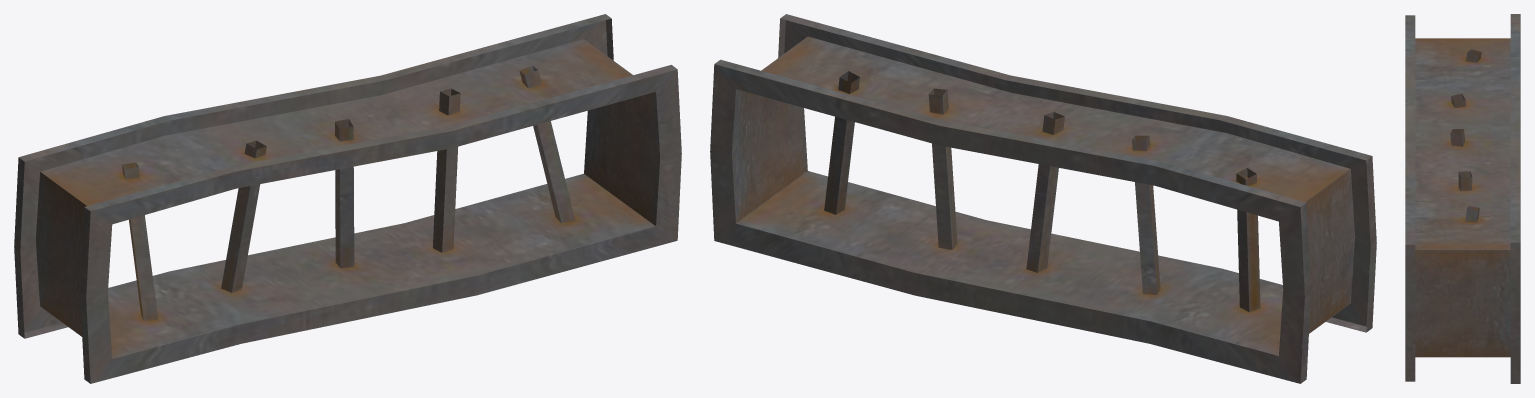
The model's file is resetka_smoll_01.glb.
The picture shows the model from 3 angles, left to right: view 1: azimuth 30°, elevation 25°; view 2: azimuth 150°, elevation 25°; view 3: azimuth 270°, elevation 25°; orthographic projection. The views are drawn at different scales.
Visible parts, largest first — view 1: resetka_smoll_01; view 2: resetka_smoll_01; view 3: resetka_smoll_01.
Part boxes in pixels (x1,y1,x2,y2): resetka_smoll_01: (14,14,681,383); resetka_smoll_01: (710,14,1376,383); resetka_smoll_01: (1405,14,1520,383).
Bounding box in the file's own units: 1.18 × 0.3578 × 0.2481.
Materials: 1 (1 with a texture image).
